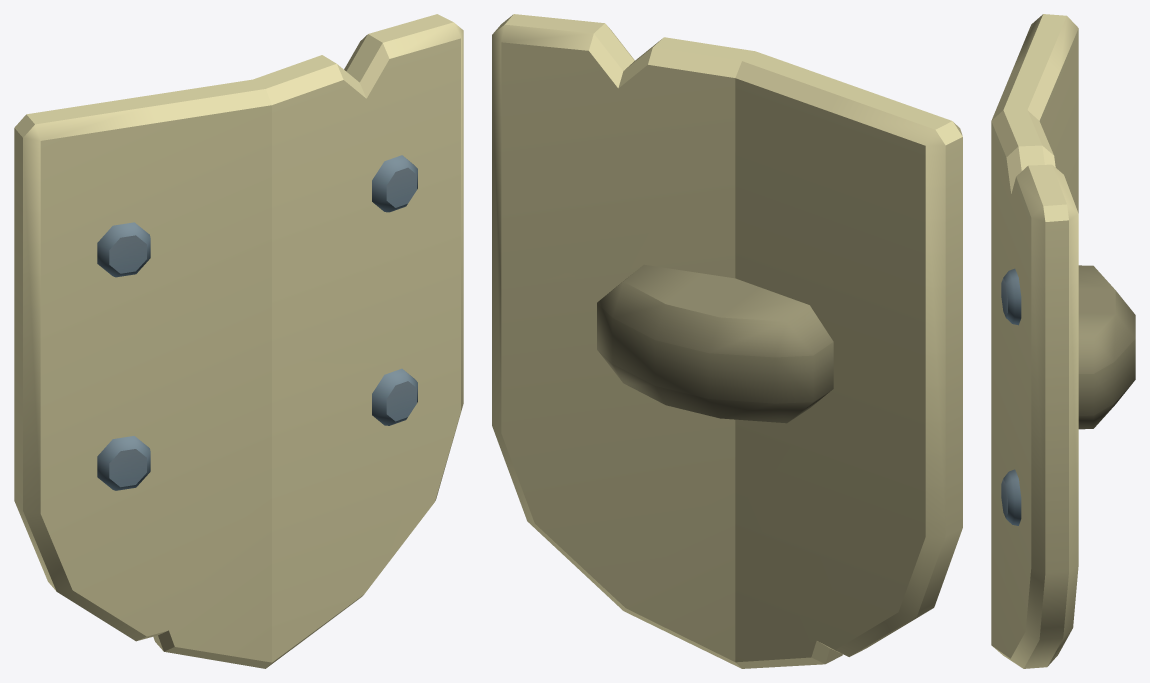
The model's file is shield_A__ESCUDO_OSSO.glb.
3 renders of one model, left to right at view 1: azimuth 30°, elevation 25°; view 2: azimuth 150°, elevation 25°; view 3: azimuth 270°, elevation 25°, orthographic. The views are drawn at different scales.
Visible parts, largest first — view 1: shield_A; view 2: shield_A; view 3: shield_A.
Boxes of the visible parts, x1,y1,x2,y2 form: shield_A: [14, 14, 463, 668]; shield_A: [492, 14, 962, 668]; shield_A: [991, 14, 1135, 668].
Size of the model in its own units: 0.7726 by 0.9799 by 0.233.
Materials: 1 (1 with a texture image).
